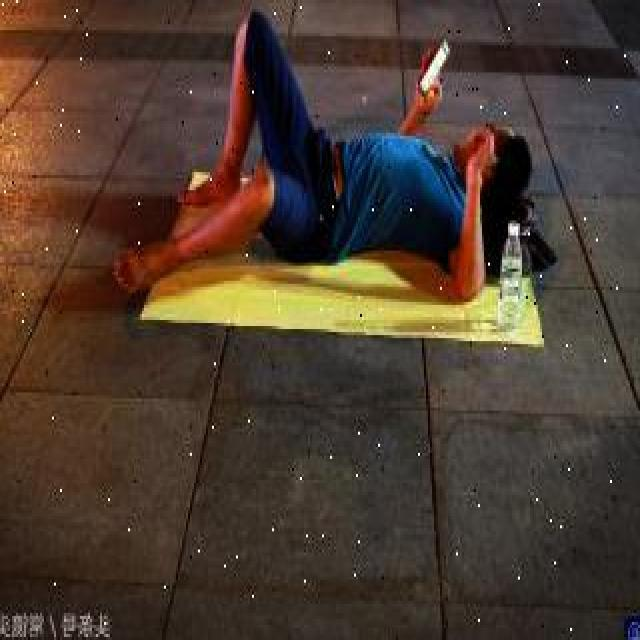fall: (126, 33, 522, 293)
